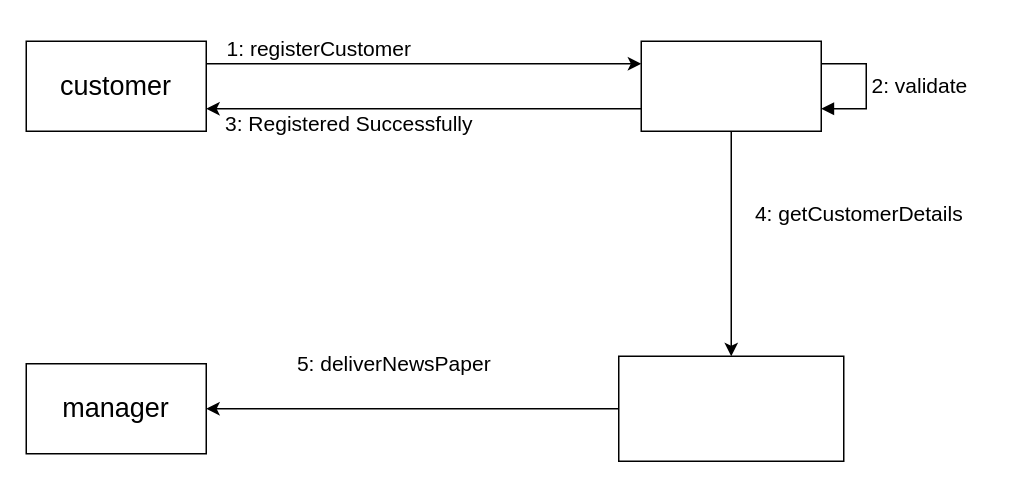
Some shapes in this 1013 by 488 pixel diagram are drawn without their labels. The centre of each missing label's shape, as x and y in pixels:
database: the point at 730,85
delivery_person: the point at 730,408
